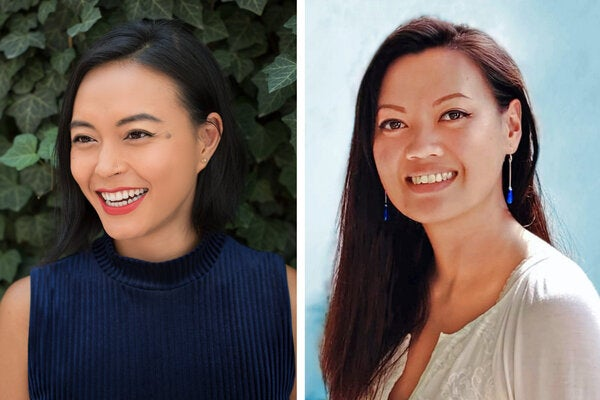NoMask: (372, 87, 490, 221), (70, 109, 178, 241)
